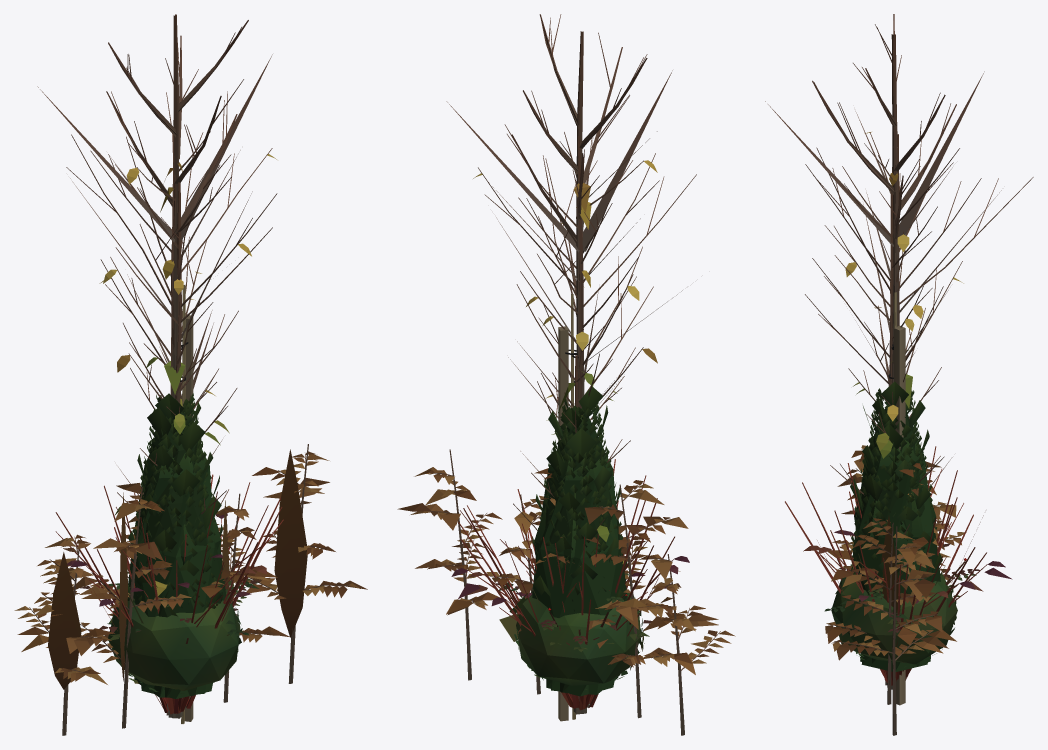
The model's file is nursery.glb.
3 renders of one model, left to right at view 1: azimuth 30°, elevation 25°; view 2: azimuth 150°, elevation 25°; view 3: azimuth 270°, elevation 25°, orthographic. The views are drawn at different scales.
Visible parts, largest first — view 1: ConiferFar, BoxBallFar, HedgeStub, Hedge, Conifer, HedgeFar, Whip1, StandardFar, Standard, Whip2, Dogwood, StandardStub (+5 smaller); view 2: ConiferFar, Hedge, BoxBallFar, HedgeFar, Conifer, Standard, Whip1, StandardFar, Dogwood, Whip2, Whip1Far, StandardStub (+3 smaller); view 3: ConiferFar, Hedge, BoxBallFar, HedgeFar, Conifer, Standard, Whip1, Dogwood, Whip2, StandardStub, StandardFar, DogwoodFar (+6 smaller).
Boxes of the visible parts, box(x1,y1,x2,y2) form: ConiferFar: box(127, 393, 226, 698); BoxBallFar: box(108, 594, 240, 690); HedgeStub: box(48, 449, 307, 689); Hedge: box(14, 444, 360, 735); Conifer: box(130, 392, 222, 697); HedgeFar: box(17, 444, 367, 735); Whip1: box(66, 92, 276, 723); StandardFar: box(106, 15, 248, 718); Standard: box(106, 15, 248, 721); Whip2: box(99, 136, 277, 715); Dogwood: box(55, 482, 283, 712); StandardStub: box(37, 14, 272, 715); ConiferFar: box(532, 386, 627, 696); Hedge: box(422, 450, 735, 735); BoxBallFar: box(499, 592, 641, 685); HedgeFar: box(397, 449, 718, 735); Conifer: box(535, 399, 625, 692); Standard: box(504, 14, 647, 721); Whip1: box(473, 132, 696, 719); StandardFar: box(511, 14, 647, 714); Dogwood: box(451, 475, 689, 710); Whip2: box(518, 153, 659, 399); Whip1Far: box(492, 131, 682, 719); StandardStub: box(446, 70, 672, 252); ConiferFar: box(850, 381, 942, 671); Hedge: box(825, 445, 966, 735); BoxBallFar: box(831, 574, 957, 664); HedgeFar: box(827, 459, 956, 735); Conifer: box(850, 388, 937, 666); Standard: box(812, 14, 956, 705); Whip1: box(805, 132, 1033, 421); Dogwood: box(802, 446, 1005, 681); Whip2: box(805, 164, 981, 384); StandardStub: box(765, 34, 984, 685); StandardFar: box(812, 14, 956, 687); DogwoodFar: box(785, 463, 1012, 685).
Size of the model in its own units: 1.37 by 3 by 1.11.
